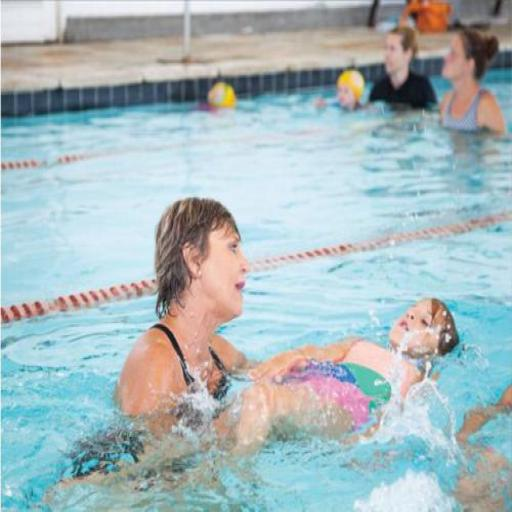swimming: (42, 194, 257, 511), (221, 294, 461, 464), (434, 24, 507, 140), (364, 23, 440, 115)
